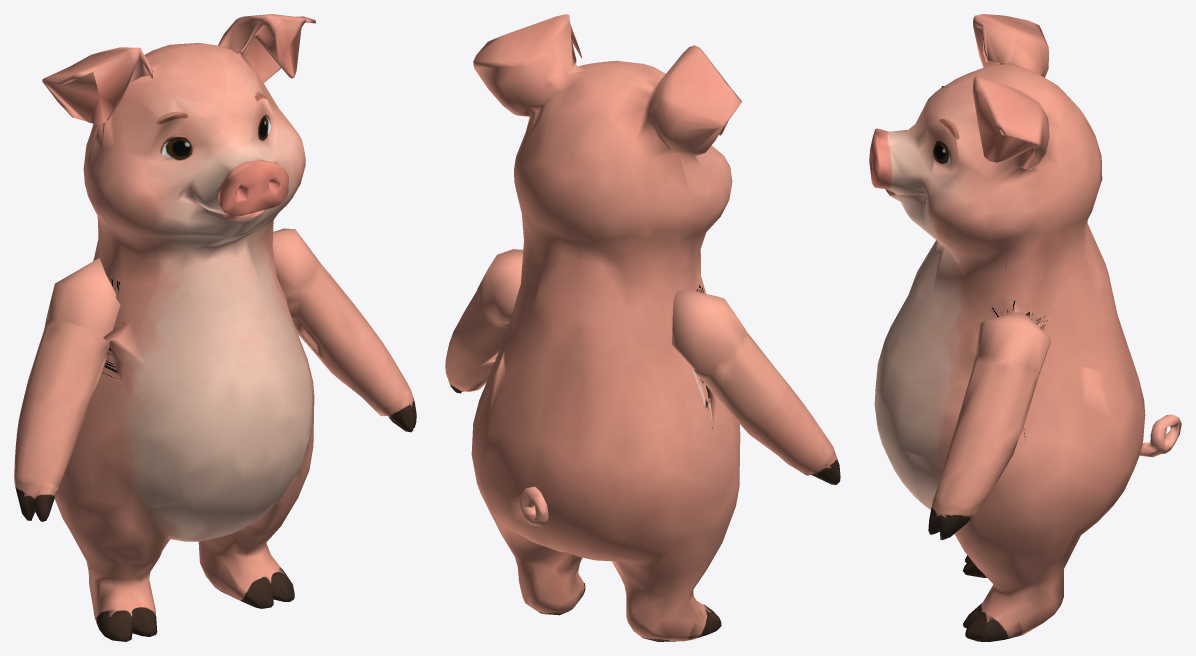
The model's file is pig-root.glb.
3 views of the same model, side by side, from view 1: azimuth 30°, elevation 25°; view 2: azimuth 150°, elevation 25°; view 3: azimuth 270°, elevation 25° (orthographic). The views are drawn at different scales.
Visible parts, largest first — view 1: pig; view 2: pig; view 3: pig.
Boxes of the visible parts, left/top/right/bottom form: pig: left=14, top=14, right=416, bottom=641; pig: left=445, top=14, right=840, bottom=641; pig: left=869, top=14, right=1181, bottom=641.
Size of the model in its own units: 1.34 by 1.9 by 0.9729.
1 material, 1 textured.
